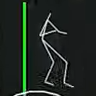hacks_2: (22, 2, 74, 94)
